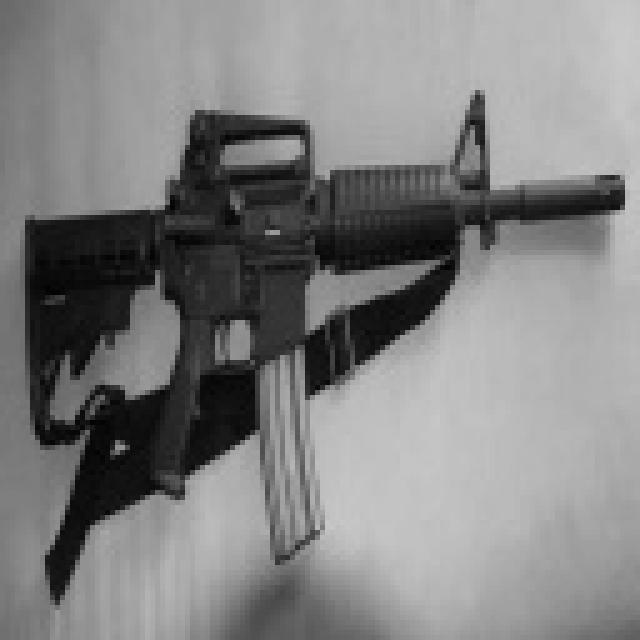Rifle: (30, 99, 640, 595)
